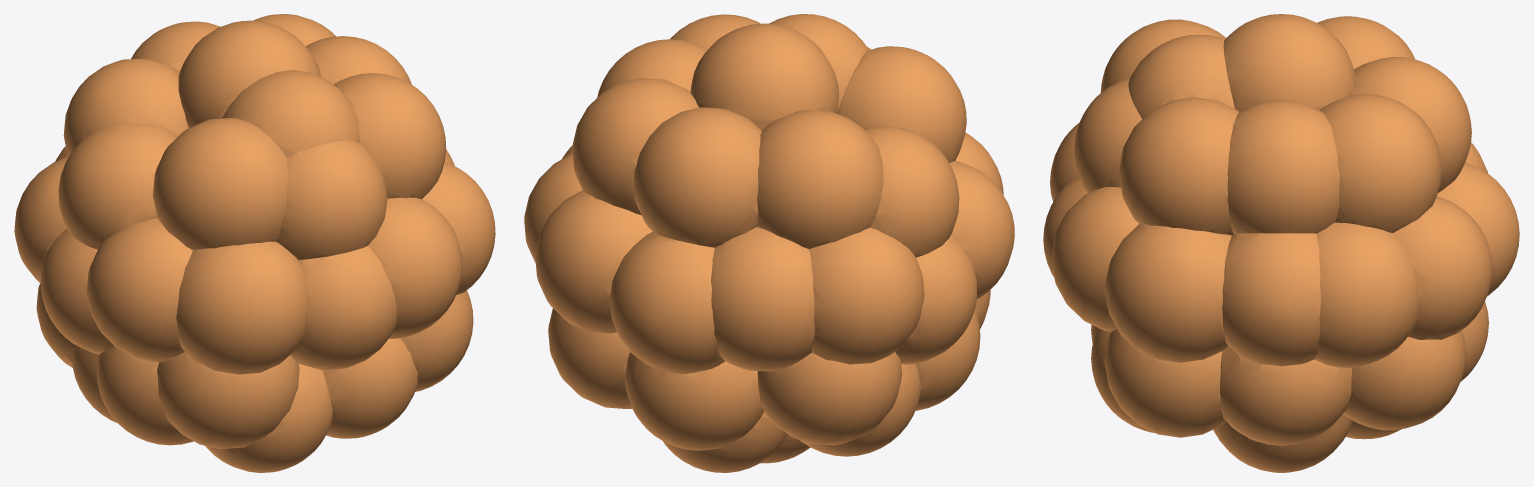
File: ORANGEBACTERIA2.fbx
3 views of the same model, side by side, from view 1: azimuth 30°, elevation 25°; view 2: azimuth 150°, elevation 25°; view 3: azimuth 270°, elevation 25° (orthographic). The views are drawn at different scales.
Visible parts, largest first — view 1: polySurface251; view 2: polySurface251; view 3: polySurface251.
Part boxes in pixels (<box>): polySurface251: <box>14,14,495,472</box>; polySurface251: <box>524,14,1014,472</box>; polySurface251: <box>1043,14,1519,472</box>.
Size of the model in its own units: 9.36 by 9.39 by 9.39.
